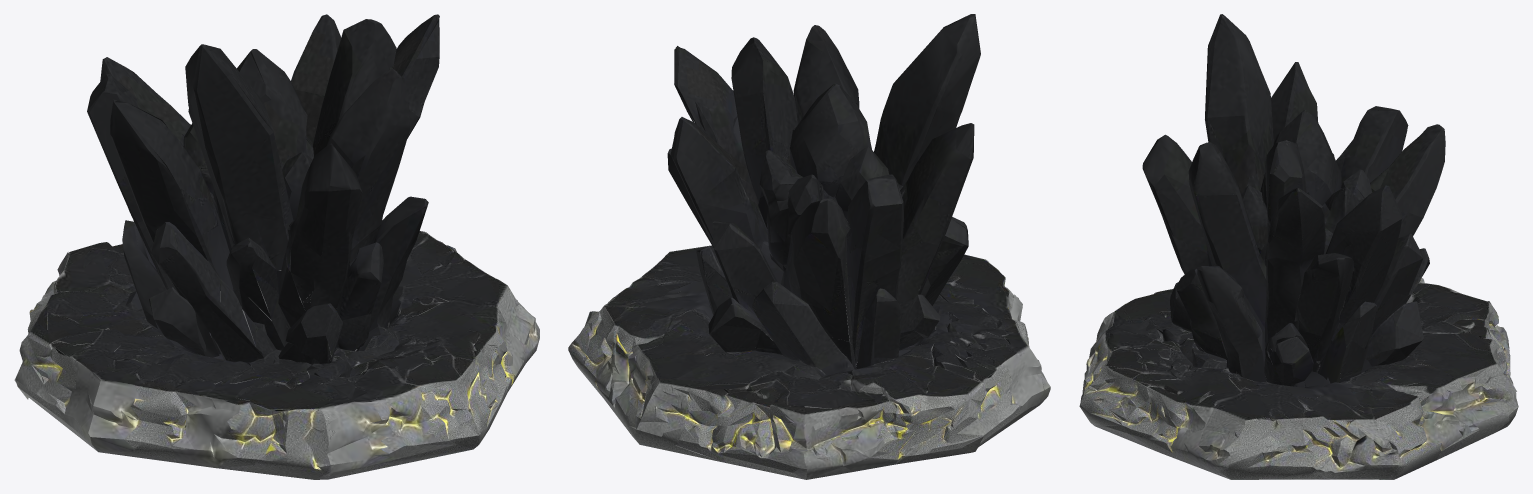
The model's file is obsidiana-vulcao.glb.
The picture shows the model from 3 angles, left to right: view 1: azimuth 30°, elevation 25°; view 2: azimuth 150°, elevation 25°; view 3: azimuth 270°, elevation 25°; orthographic projection. The views are drawn at different scales.
Parts seen in each view (by area): view 1: obsidiana-vulcao; view 2: obsidiana-vulcao; view 3: obsidiana-vulcao.
Boxes of the visible parts, bbox=[...] form: obsidiana-vulcao: bbox=[14, 14, 539, 479]; obsidiana-vulcao: bbox=[568, 14, 1050, 479]; obsidiana-vulcao: bbox=[1079, 14, 1518, 479].
Bounding box in the file's own units: 2.59 × 2.2 × 2.64.
Materials: 1 (1 with a texture image).
